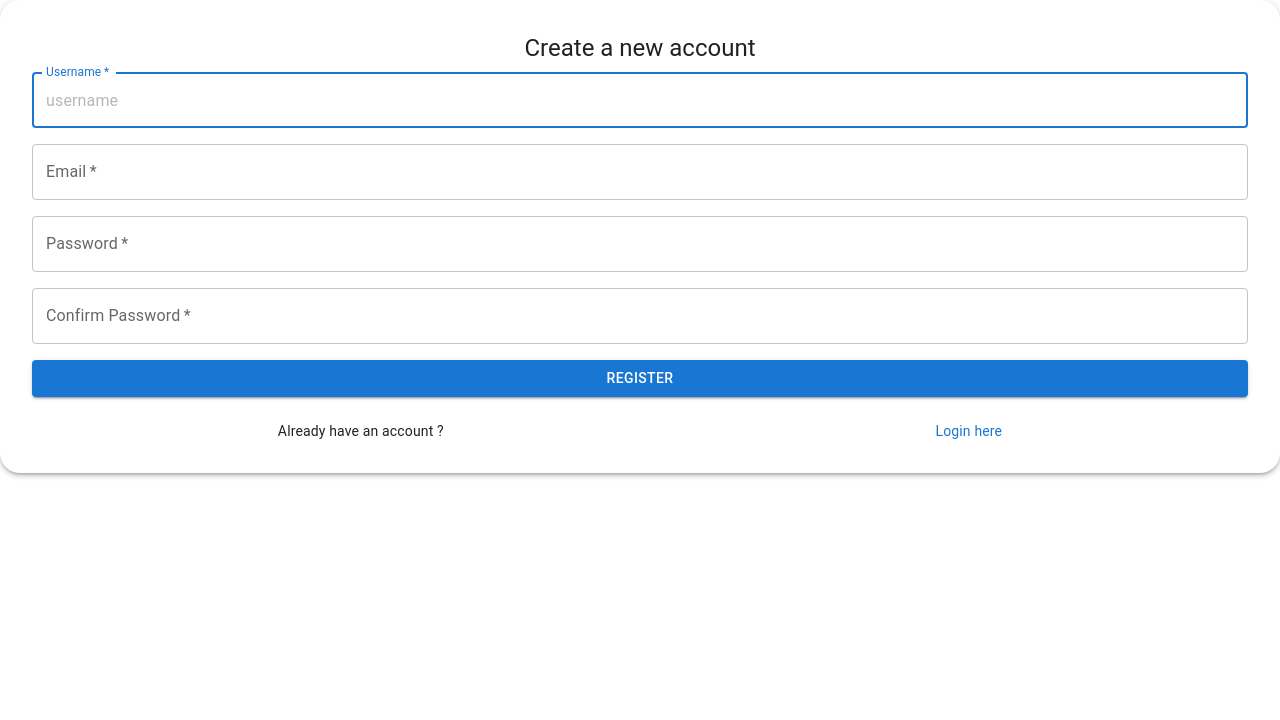
LoginPage › RegisterPane › show validation error when passwords do not match
The width and height of the screenshot is (1280, 720).
Expected: the password field labelled "Confirm Password *" is shown, [32,288,1248,344]
In the password field labelled "Password *": (640, 244) [32,216,1248,272], type "password123"
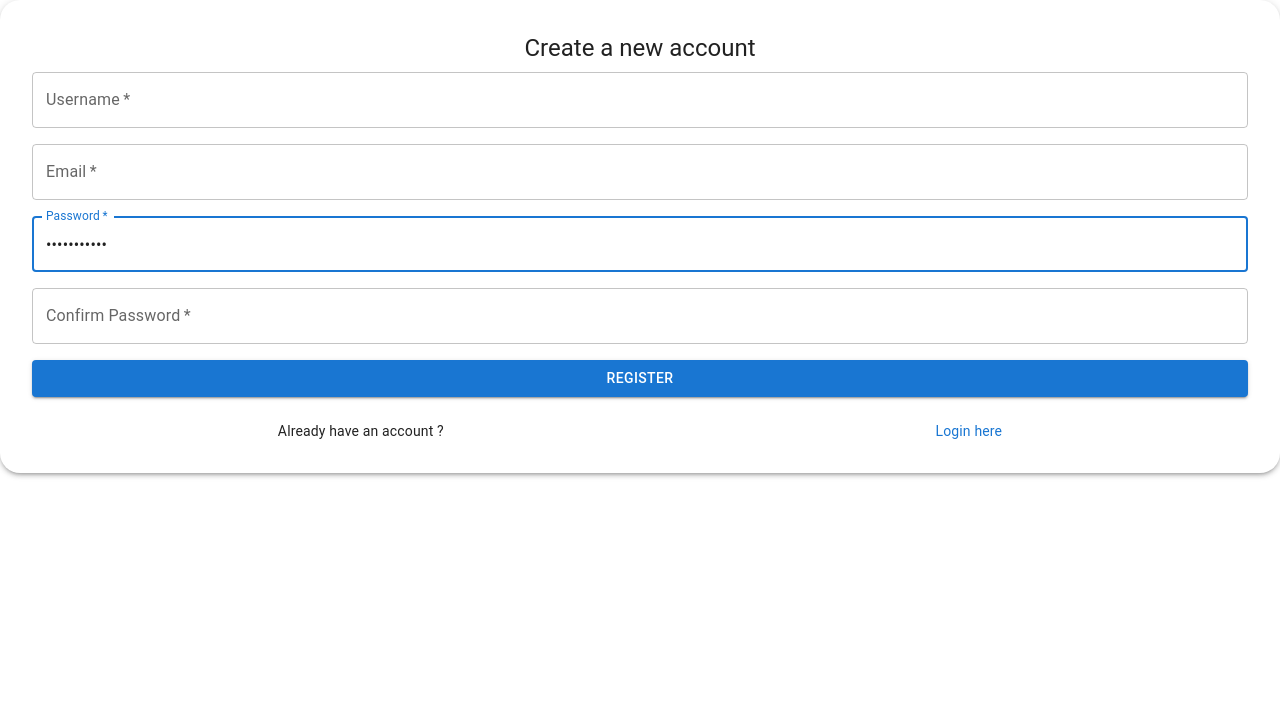
In the password field labelled "Confirm Password *": (640, 316) [32,288,1248,344], type "password124"
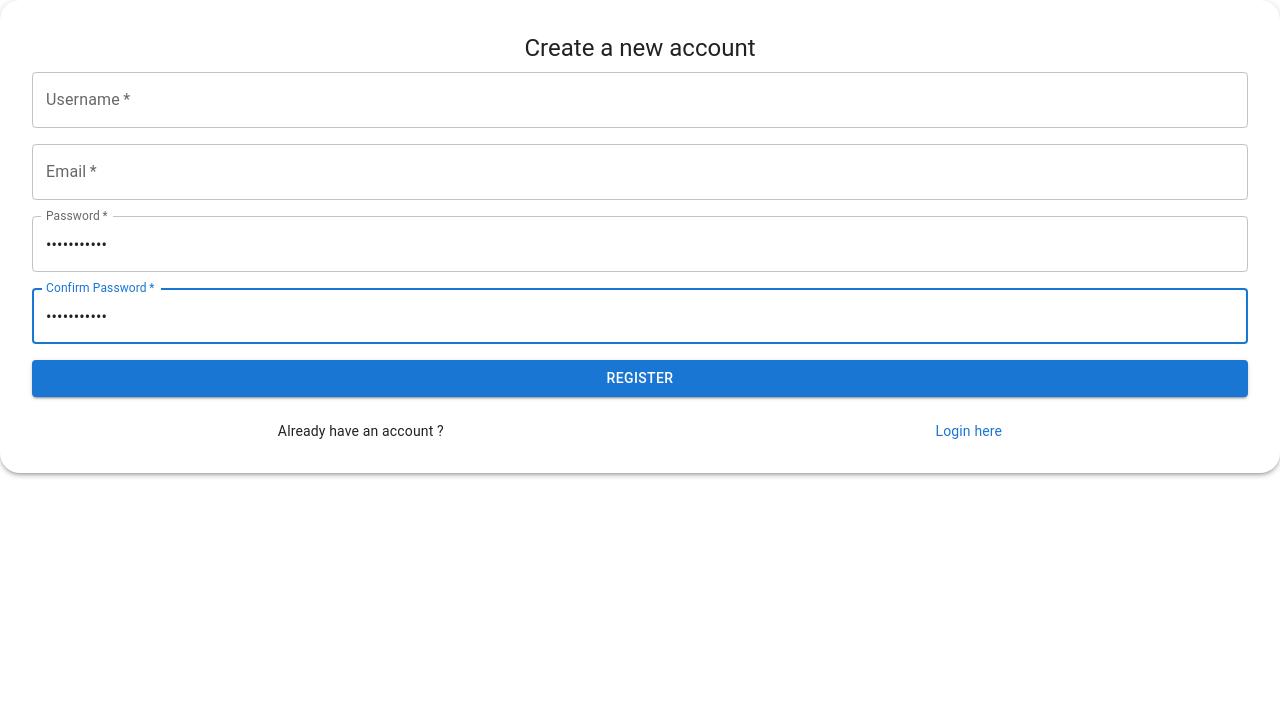
Click the button "Register": click(640, 379) [32,360,1248,397]
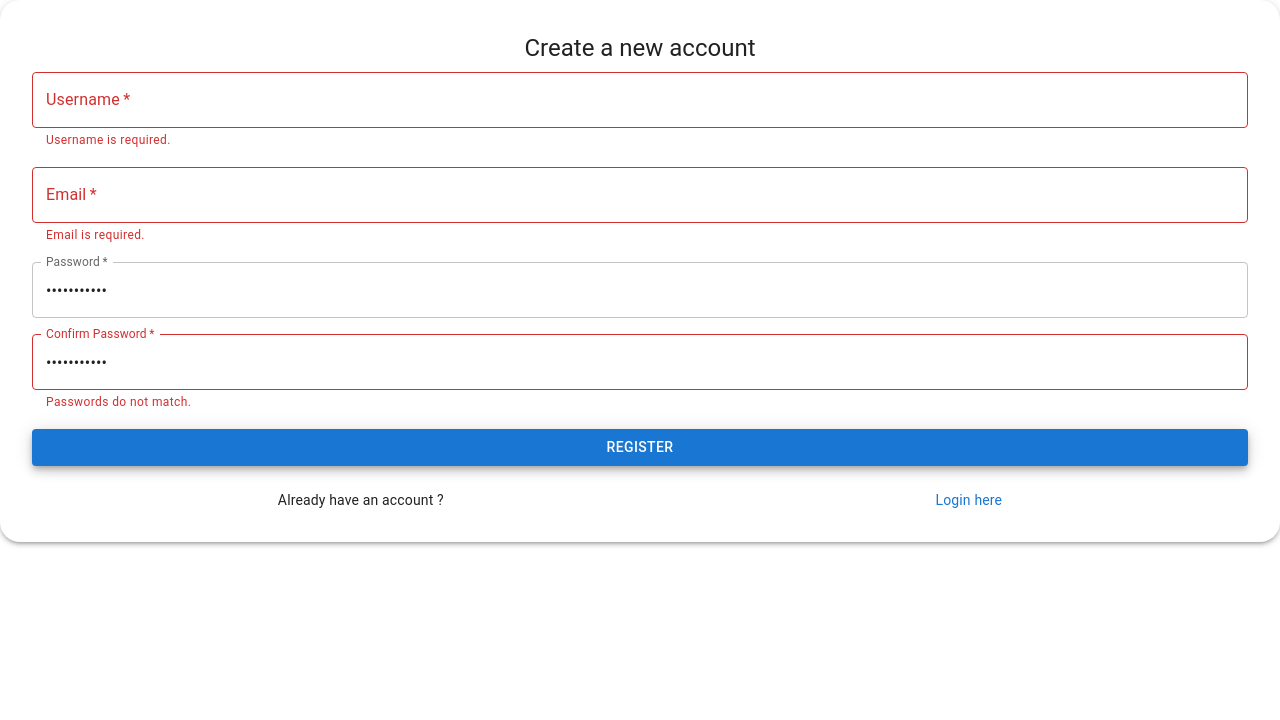
Result: the text "Passwords do not match." is shown at [46,395,191,409]
